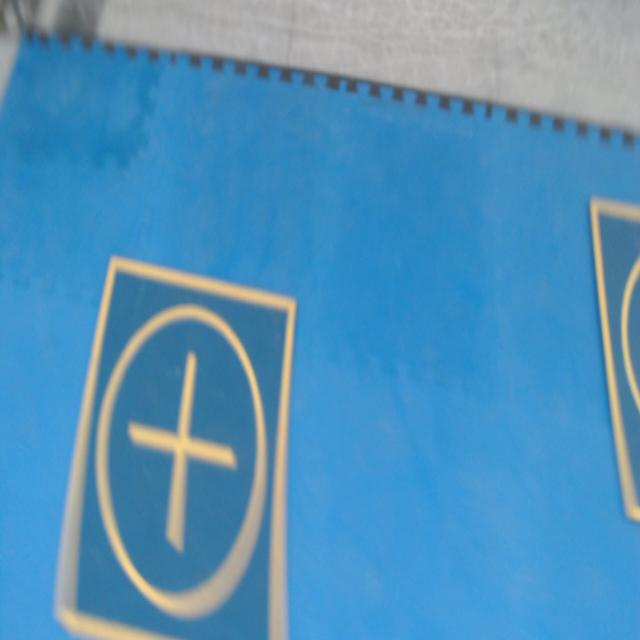base_pouso: (47, 255, 298, 639), (589, 195, 640, 518)
